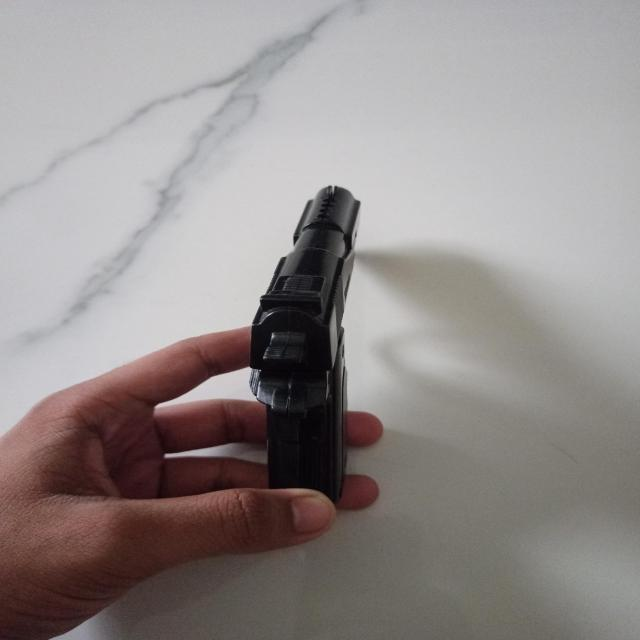handgun: (252, 183, 364, 507)
